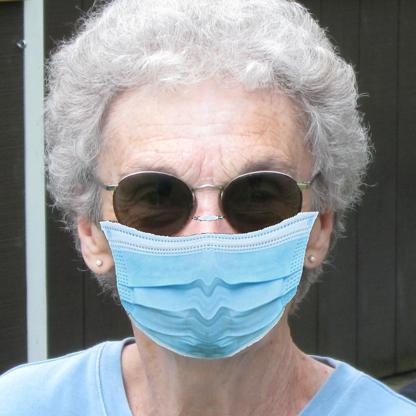mask: (96, 218, 308, 358)
